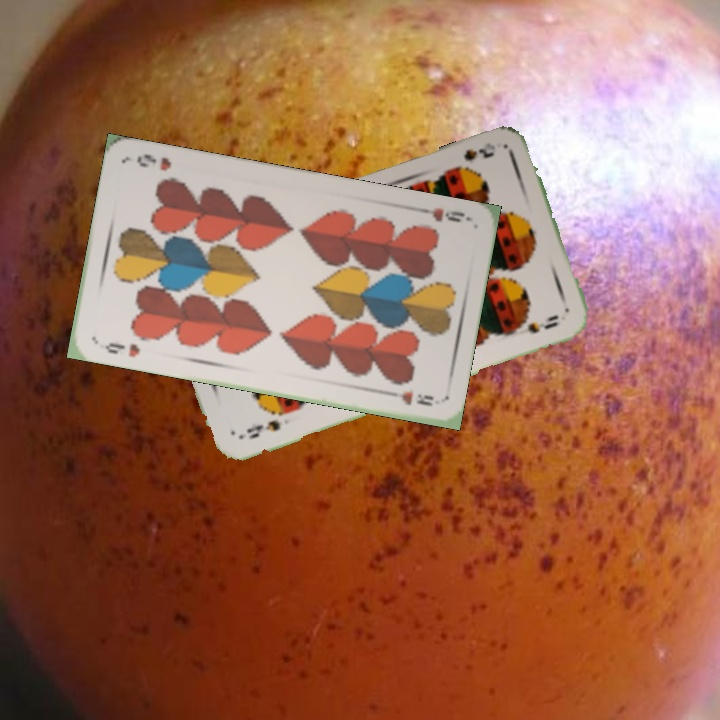H9: (414, 204, 472, 225), (100, 338, 143, 360)
S9: (447, 139, 499, 176), (242, 416, 283, 442)
